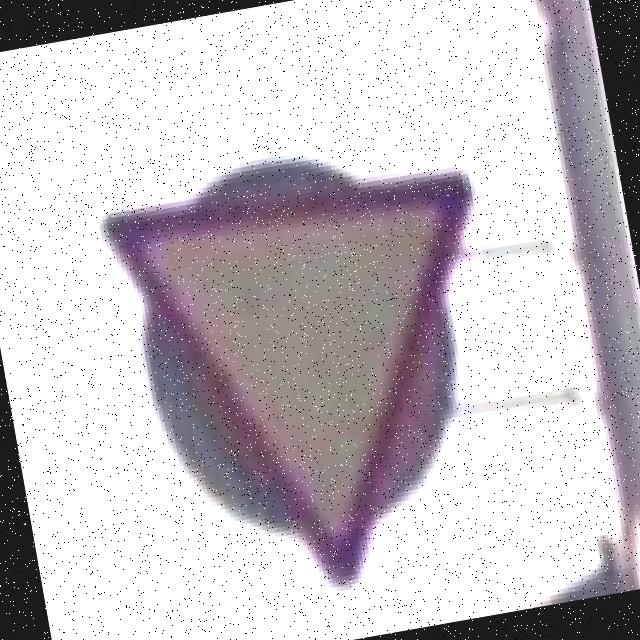Ustap pierwszenstwa: (97, 145, 540, 620)
